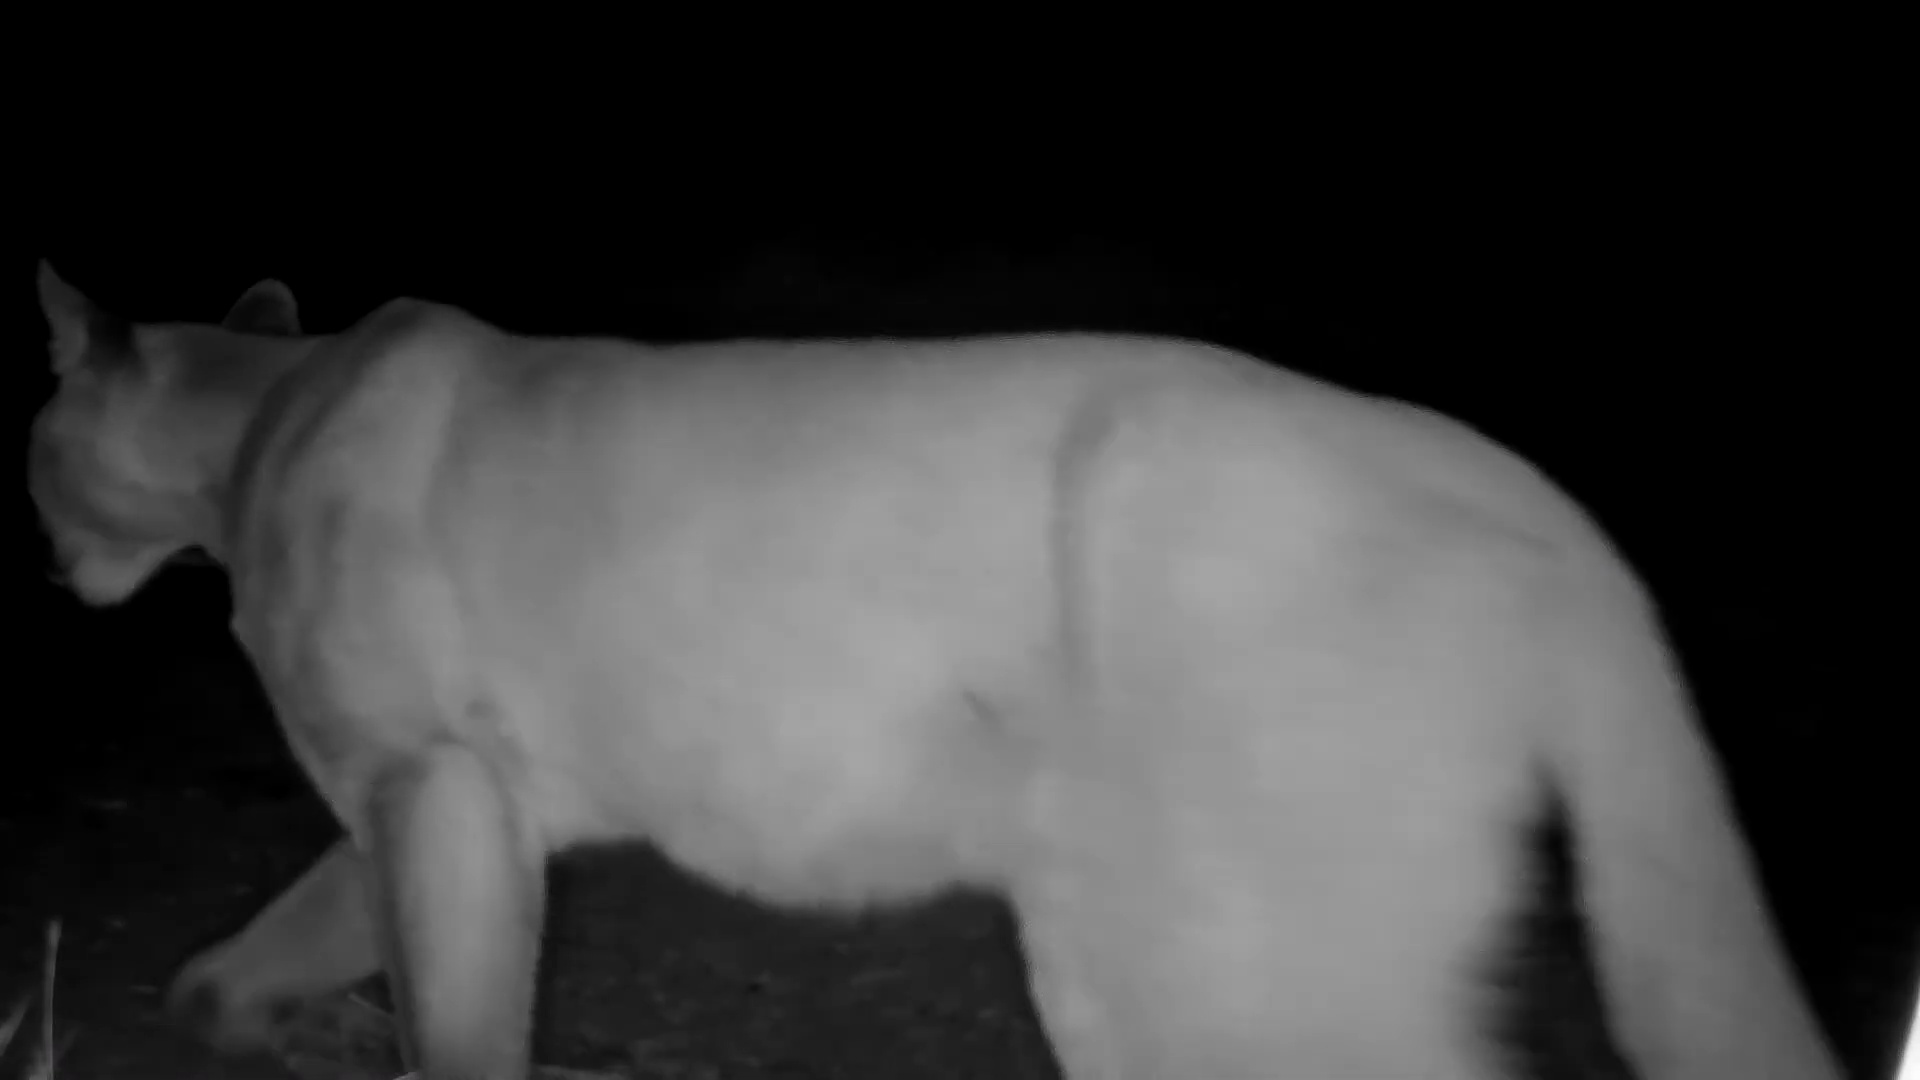Lion: (26, 253, 1840, 1080)
